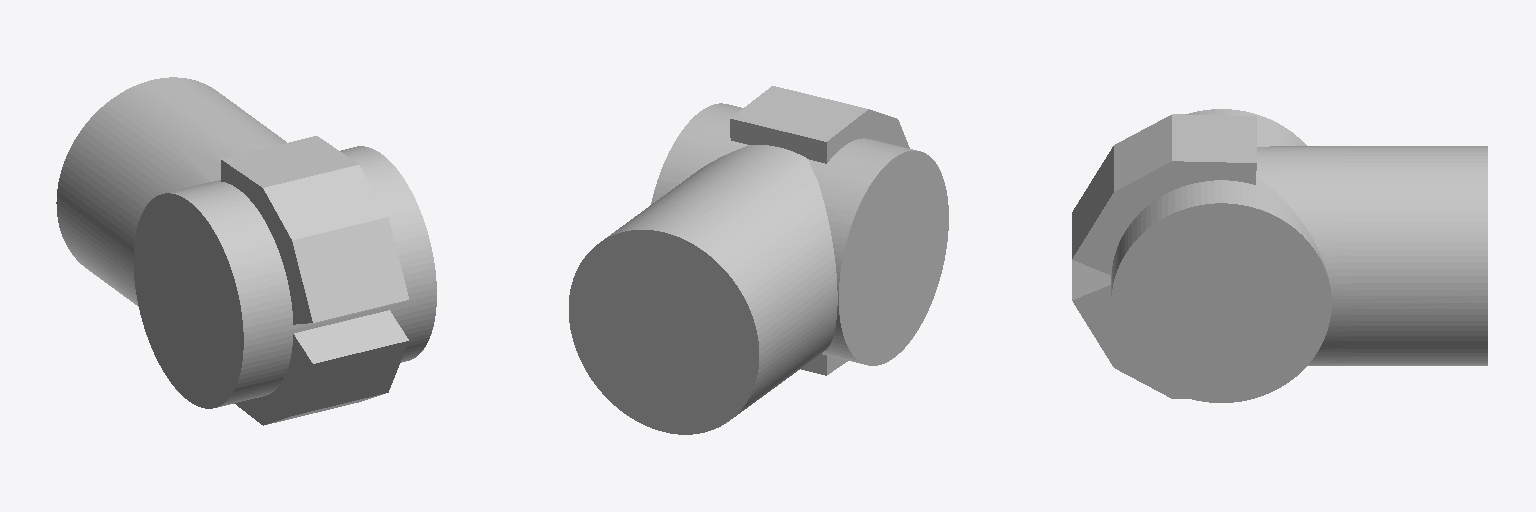
3 views of the same model, side by side, from view 1: azimuth 30°, elevation 25°; view 2: azimuth 150°, elevation 25°; view 3: azimuth 270°, elevation 25° (orthographic).
Visible parts, largest first — view 1: link_51; view 2: link_51; view 3: link_51.
Part boxes in pixels (bbox=[...]): link_51: bbox=[56, 77, 436, 425]; link_51: bbox=[569, 86, 948, 434]; link_51: bbox=[1072, 109, 1487, 402].
Size of the model in its own units: 42.5 by 49.97 by 79.26.